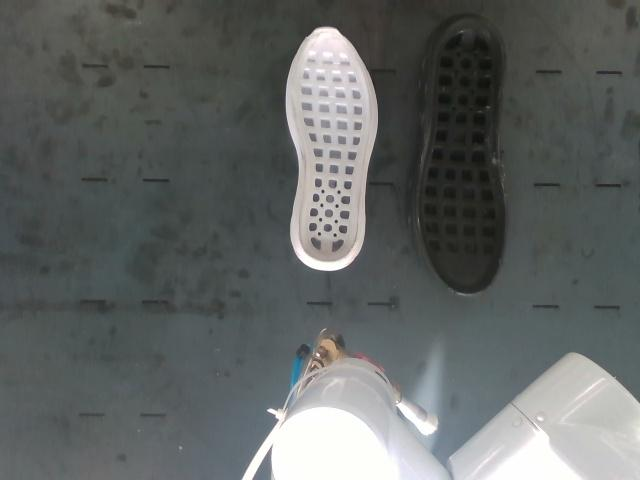shoes: (420, 19, 505, 294), (289, 27, 373, 262)
